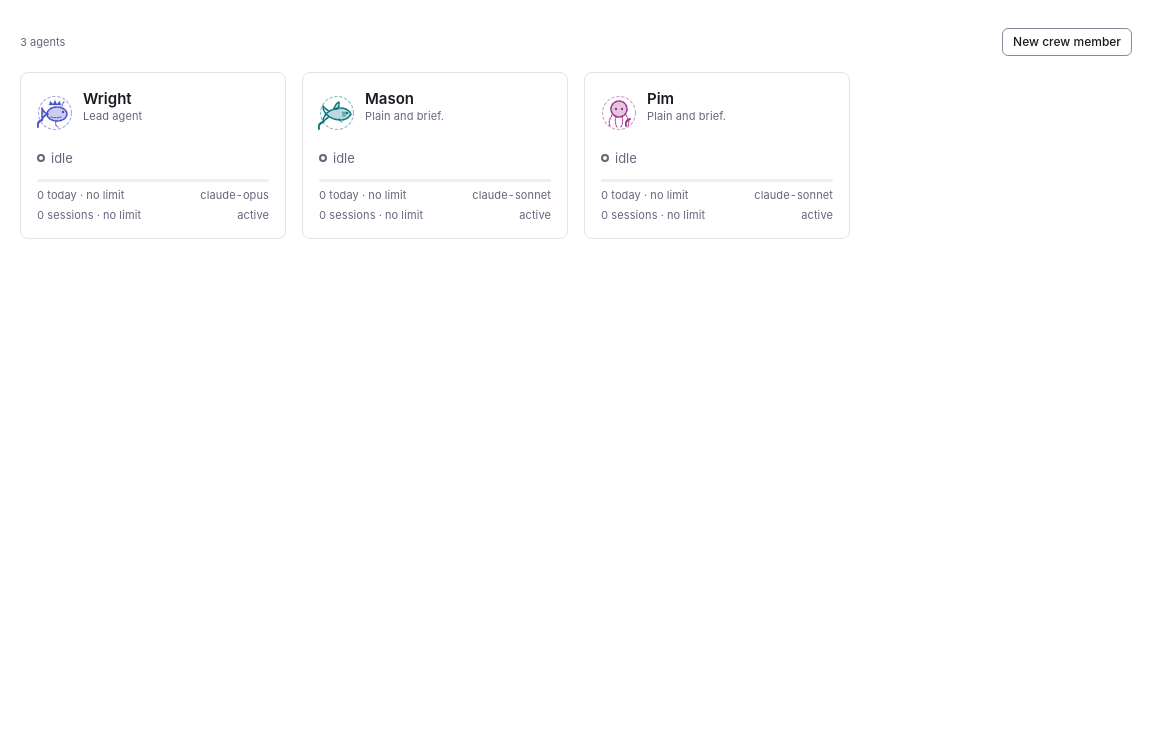
Scenario: the Connectors row › a expiring row reads expiring
Step 1. Click the button with test id "team-card" that starts with "Mason" → {"x": 337, "y": 113}, box [302,72,568,239]
(page scrolled)
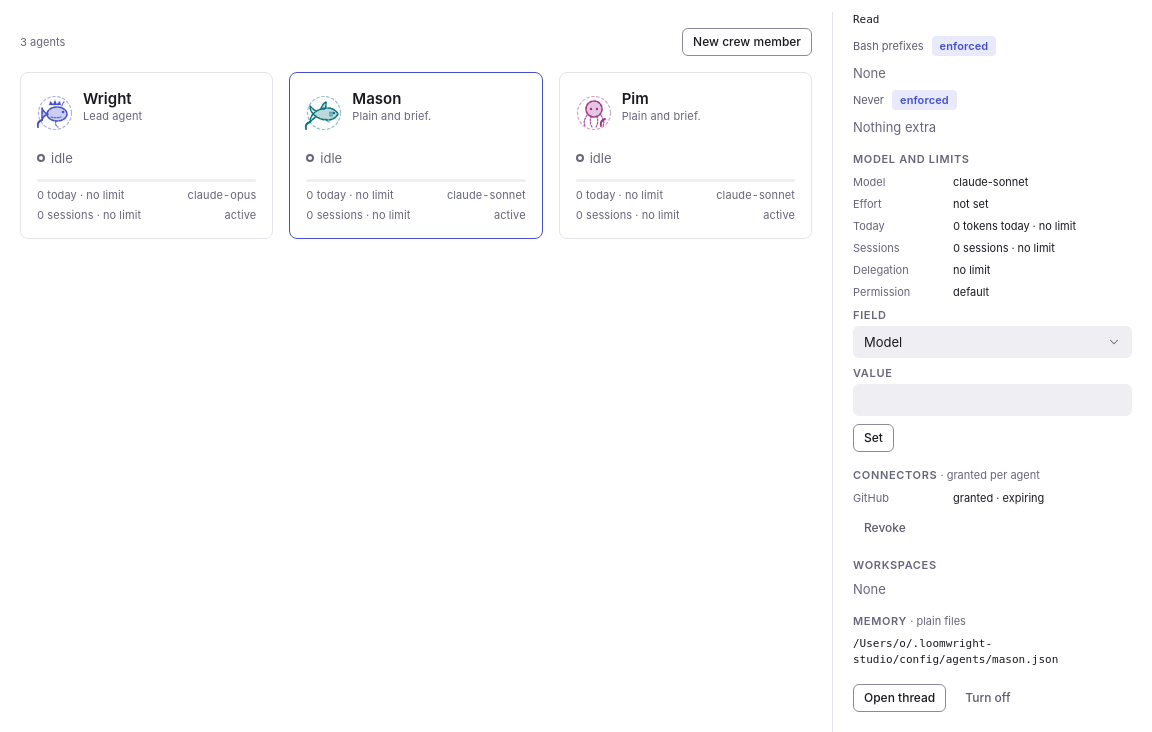
Expected: the text with test id "team-connector-state" reads "expiring", [1003,491,1044,505]
